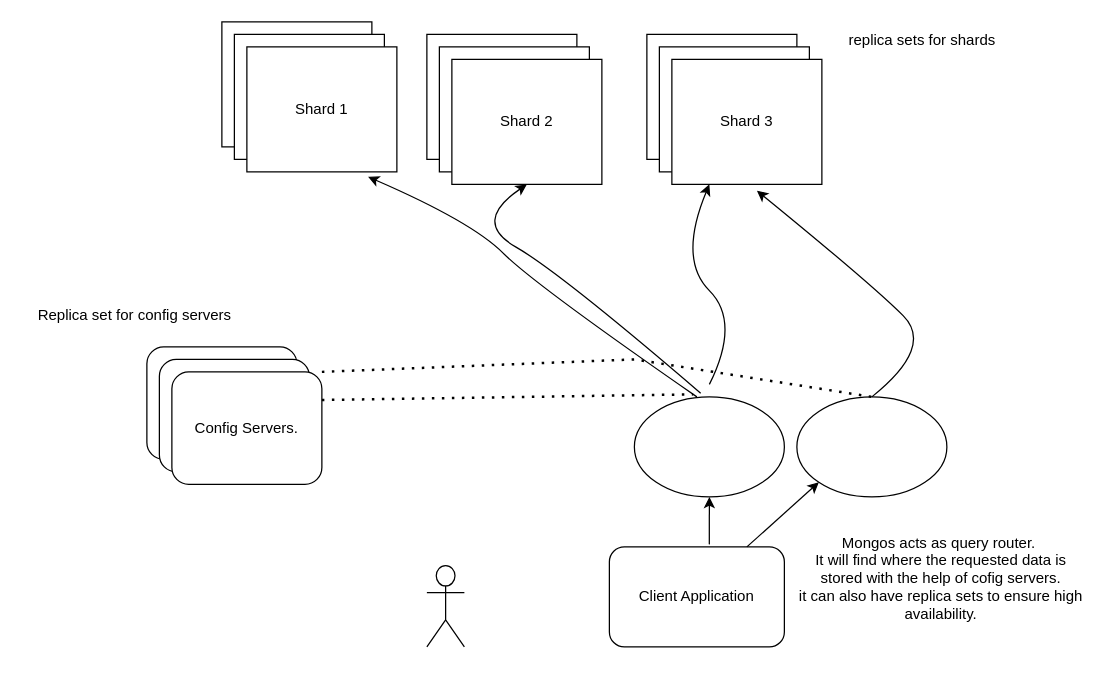
The diagram is 1118 pixels wide and 695 high, and some of its shapes have lost their labels. The shapes that lost their labels are listed below. From the top down, each one's centre as x and y in pixels, then its label:
At [708,446]: "Mongos 1".
At [871,446]: "Mongos 2".
At [445,605]: "Client".
